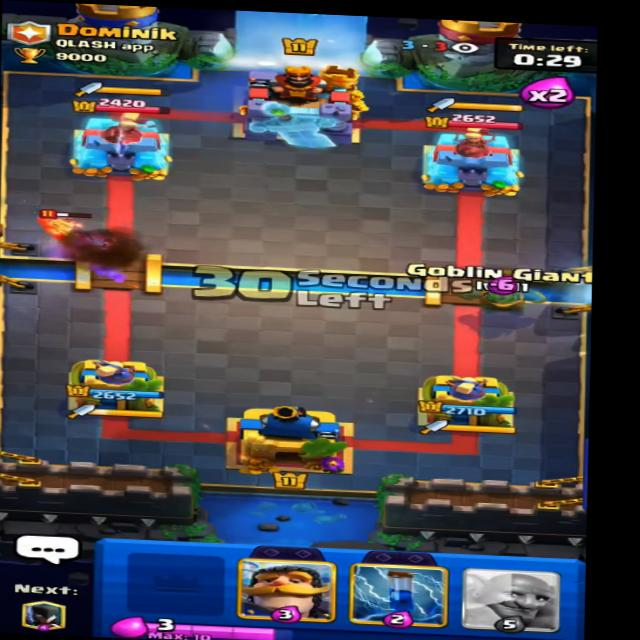wizard: (30, 202, 92, 243)
